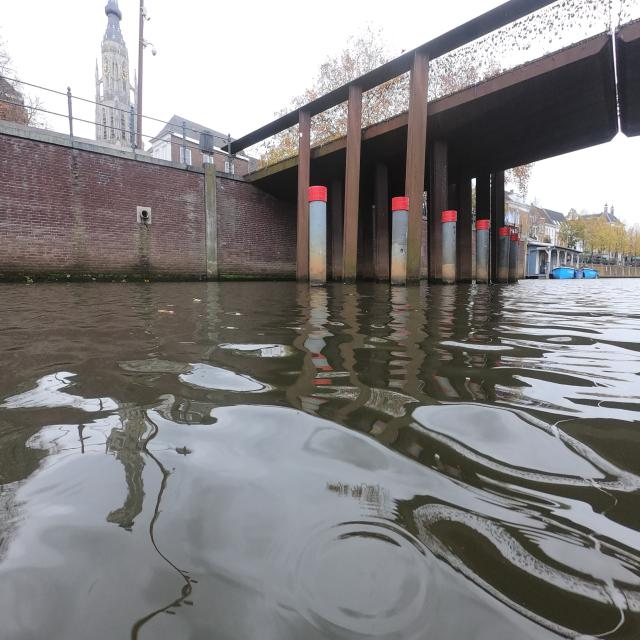sky: (143, 0, 505, 137)
wall: (0, 121, 296, 279), (163, 242, 171, 248)
water: (0, 280, 640, 640)
